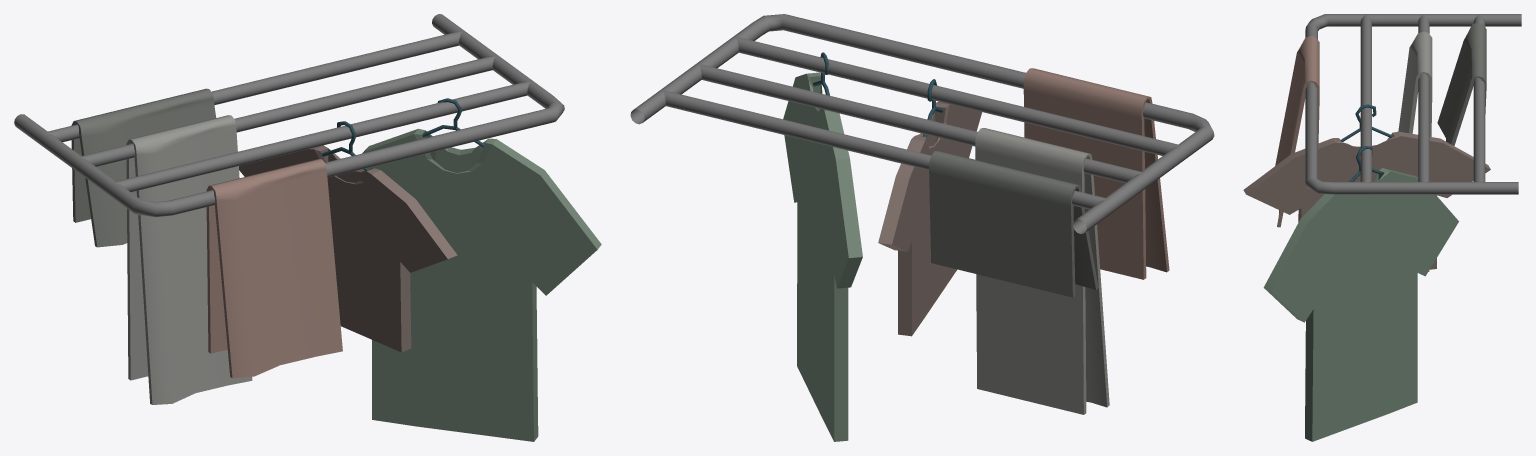
The model's file is hanger-2.fbx.
3 renders of one model, left to right at view 1: azimuth 30°, elevation 25°; view 2: azimuth 150°, elevation 25°; view 3: azimuth 270°, elevation 25°, orthographic. The views are drawn at different scales.
Visible parts, largest first — view 1: hanger2; view 2: hanger2; view 3: hanger2.
Part boxes in pixels (x1,y1,x2,y2): hanger2: (14,14,601,441); hanger2: (630,14,1214,441); hanger2: (1243,14,1521,441).
Bounding box in the file's own units: 1.32 × 0.9569 × 0.879.
